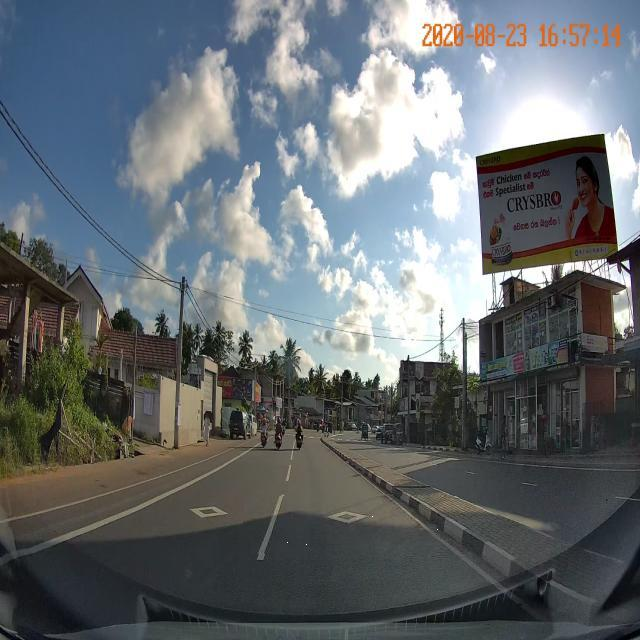diamond: (243, 497, 459, 554)
